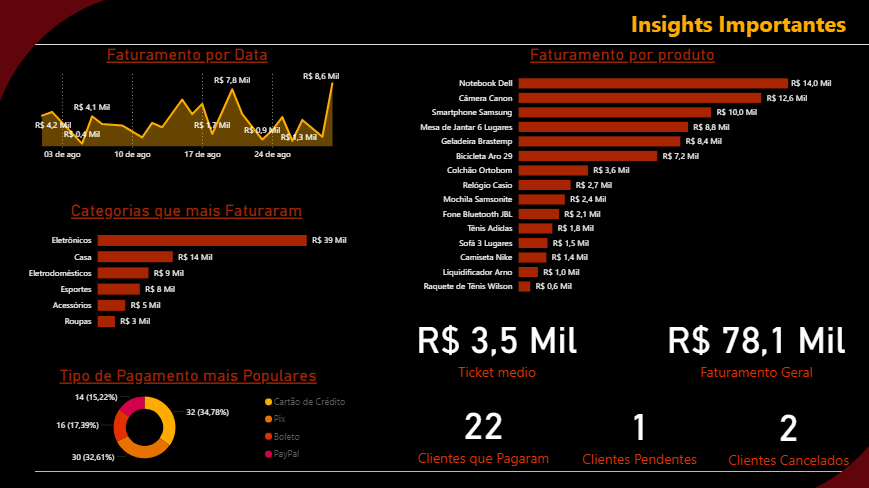

Layout of this report page (visuals, bound fields, positions):
{"tool":"powerbi","page":{"name":"Página 1","canvas":[1280,720],"ordinal":0},"visuals":[{"type":"barChart","title":"Categorias que mais Faturaram","fields":{"Category":["produtos.categoria"],"Y":["pedidos.Faturamento Geral"]},"box":[39.4,298.5,484.8,198.5],"z":0},{"type":"donutChart","title":"Tipo de Pagamento mais Populares","fields":{"Category":["pedidos.forma_pagamento"],"Y":["Sum(itens_pedido.quantidade)"]},"box":[40.9,537.9,486.4,151.5],"z":1000},{"type":"card","fields":{"Values":["clientes.Qtd Clientes"]},"box":[606.1,574.2,213.6,115.2],"z":2000},{"type":"card","fields":{"Values":["pedidos.Faturamento Geral"]},"box":[968.7,453.8,283.6,106.2],"z":3000},{"type":"card","fields":{"Values":["clientes.Clientes Pendentes"]},"box":[848.5,575.8,184.8,115.2],"z":4000},{"type":"card","fields":{"Values":["clientes.Clientes cancelados"]},"box":[1062.1,577.3,190.9,113.6],"z":5000},{"type":"card","fields":{"Values":["clientes.Ticket medio"]},"box":[606.5,453.8,253.1,106.2],"z":6000},{"type":"areaChart","title":"Faturamento por Data","fields":{"Y":["pedidos.Faturamento Geral"],"Category":["pedidos.data_pedido.Variation.Hierarquia de datas.Ano","pedidos.data_pedido.Variation.Hierarquia de datas.Trimestre","pedidos.data_pedido.Variation.Hierarquia de datas.Mês","pedidos.data_pedido.Variation.Hierarquia de datas.Dia"]},"box":[39.4,71.2,486.4,177.3],"z":7000},{"type":"barChart","title":"Faturamento por produto","fields":{"Category":["produtos.nome_produto"],"Y":["pedidos.Faturamento Geral"]},"box":[606.5,71.3,618.2,372.4],"z":8000},{"type":"textbox","box":[916.4,11.6,336,59.6],"z":9000}]}

Visuals, with their boxes in screenshot pixels (x1, y1, x2, y2), scaled from the page's 1280x720 canvas onto the 869x488 screenshot:
"Categorias que mais Faturaram" barChart: region(27, 202, 356, 337)
"Tipo de Pagamento mais Populares" donutChart: region(28, 365, 358, 467)
card - clientes.Qtd Clientes: region(411, 389, 556, 467)
card - pedidos.Faturamento Geral: region(658, 308, 850, 380)
card - clientes.Clientes Pendentes: region(576, 390, 702, 468)
card - clientes.Clientes cancelados: region(721, 391, 851, 468)
card - clientes.Ticket medio: region(412, 308, 584, 380)
"Faturamento por Data" areaChart: region(27, 48, 357, 168)
"Faturamento por produto" barChart: region(412, 48, 831, 301)
textbox: region(622, 8, 850, 48)
